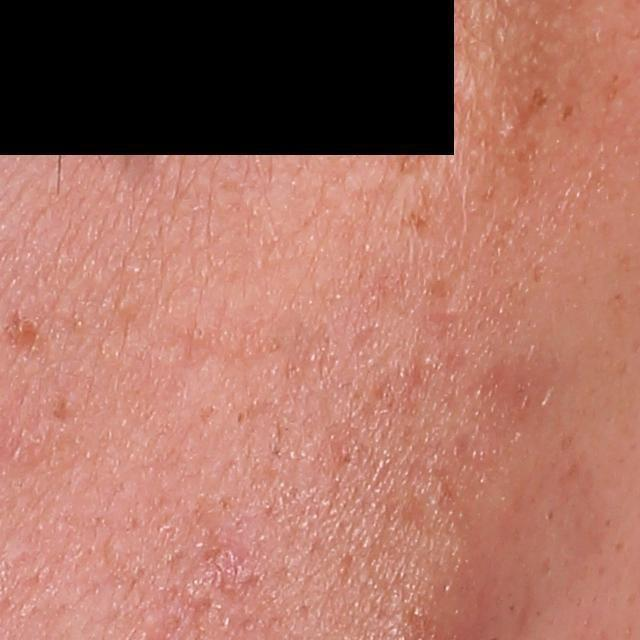comedo: (185, 322, 208, 343)
melasma: (397, 206, 439, 236), (557, 100, 579, 124), (527, 85, 547, 109)
